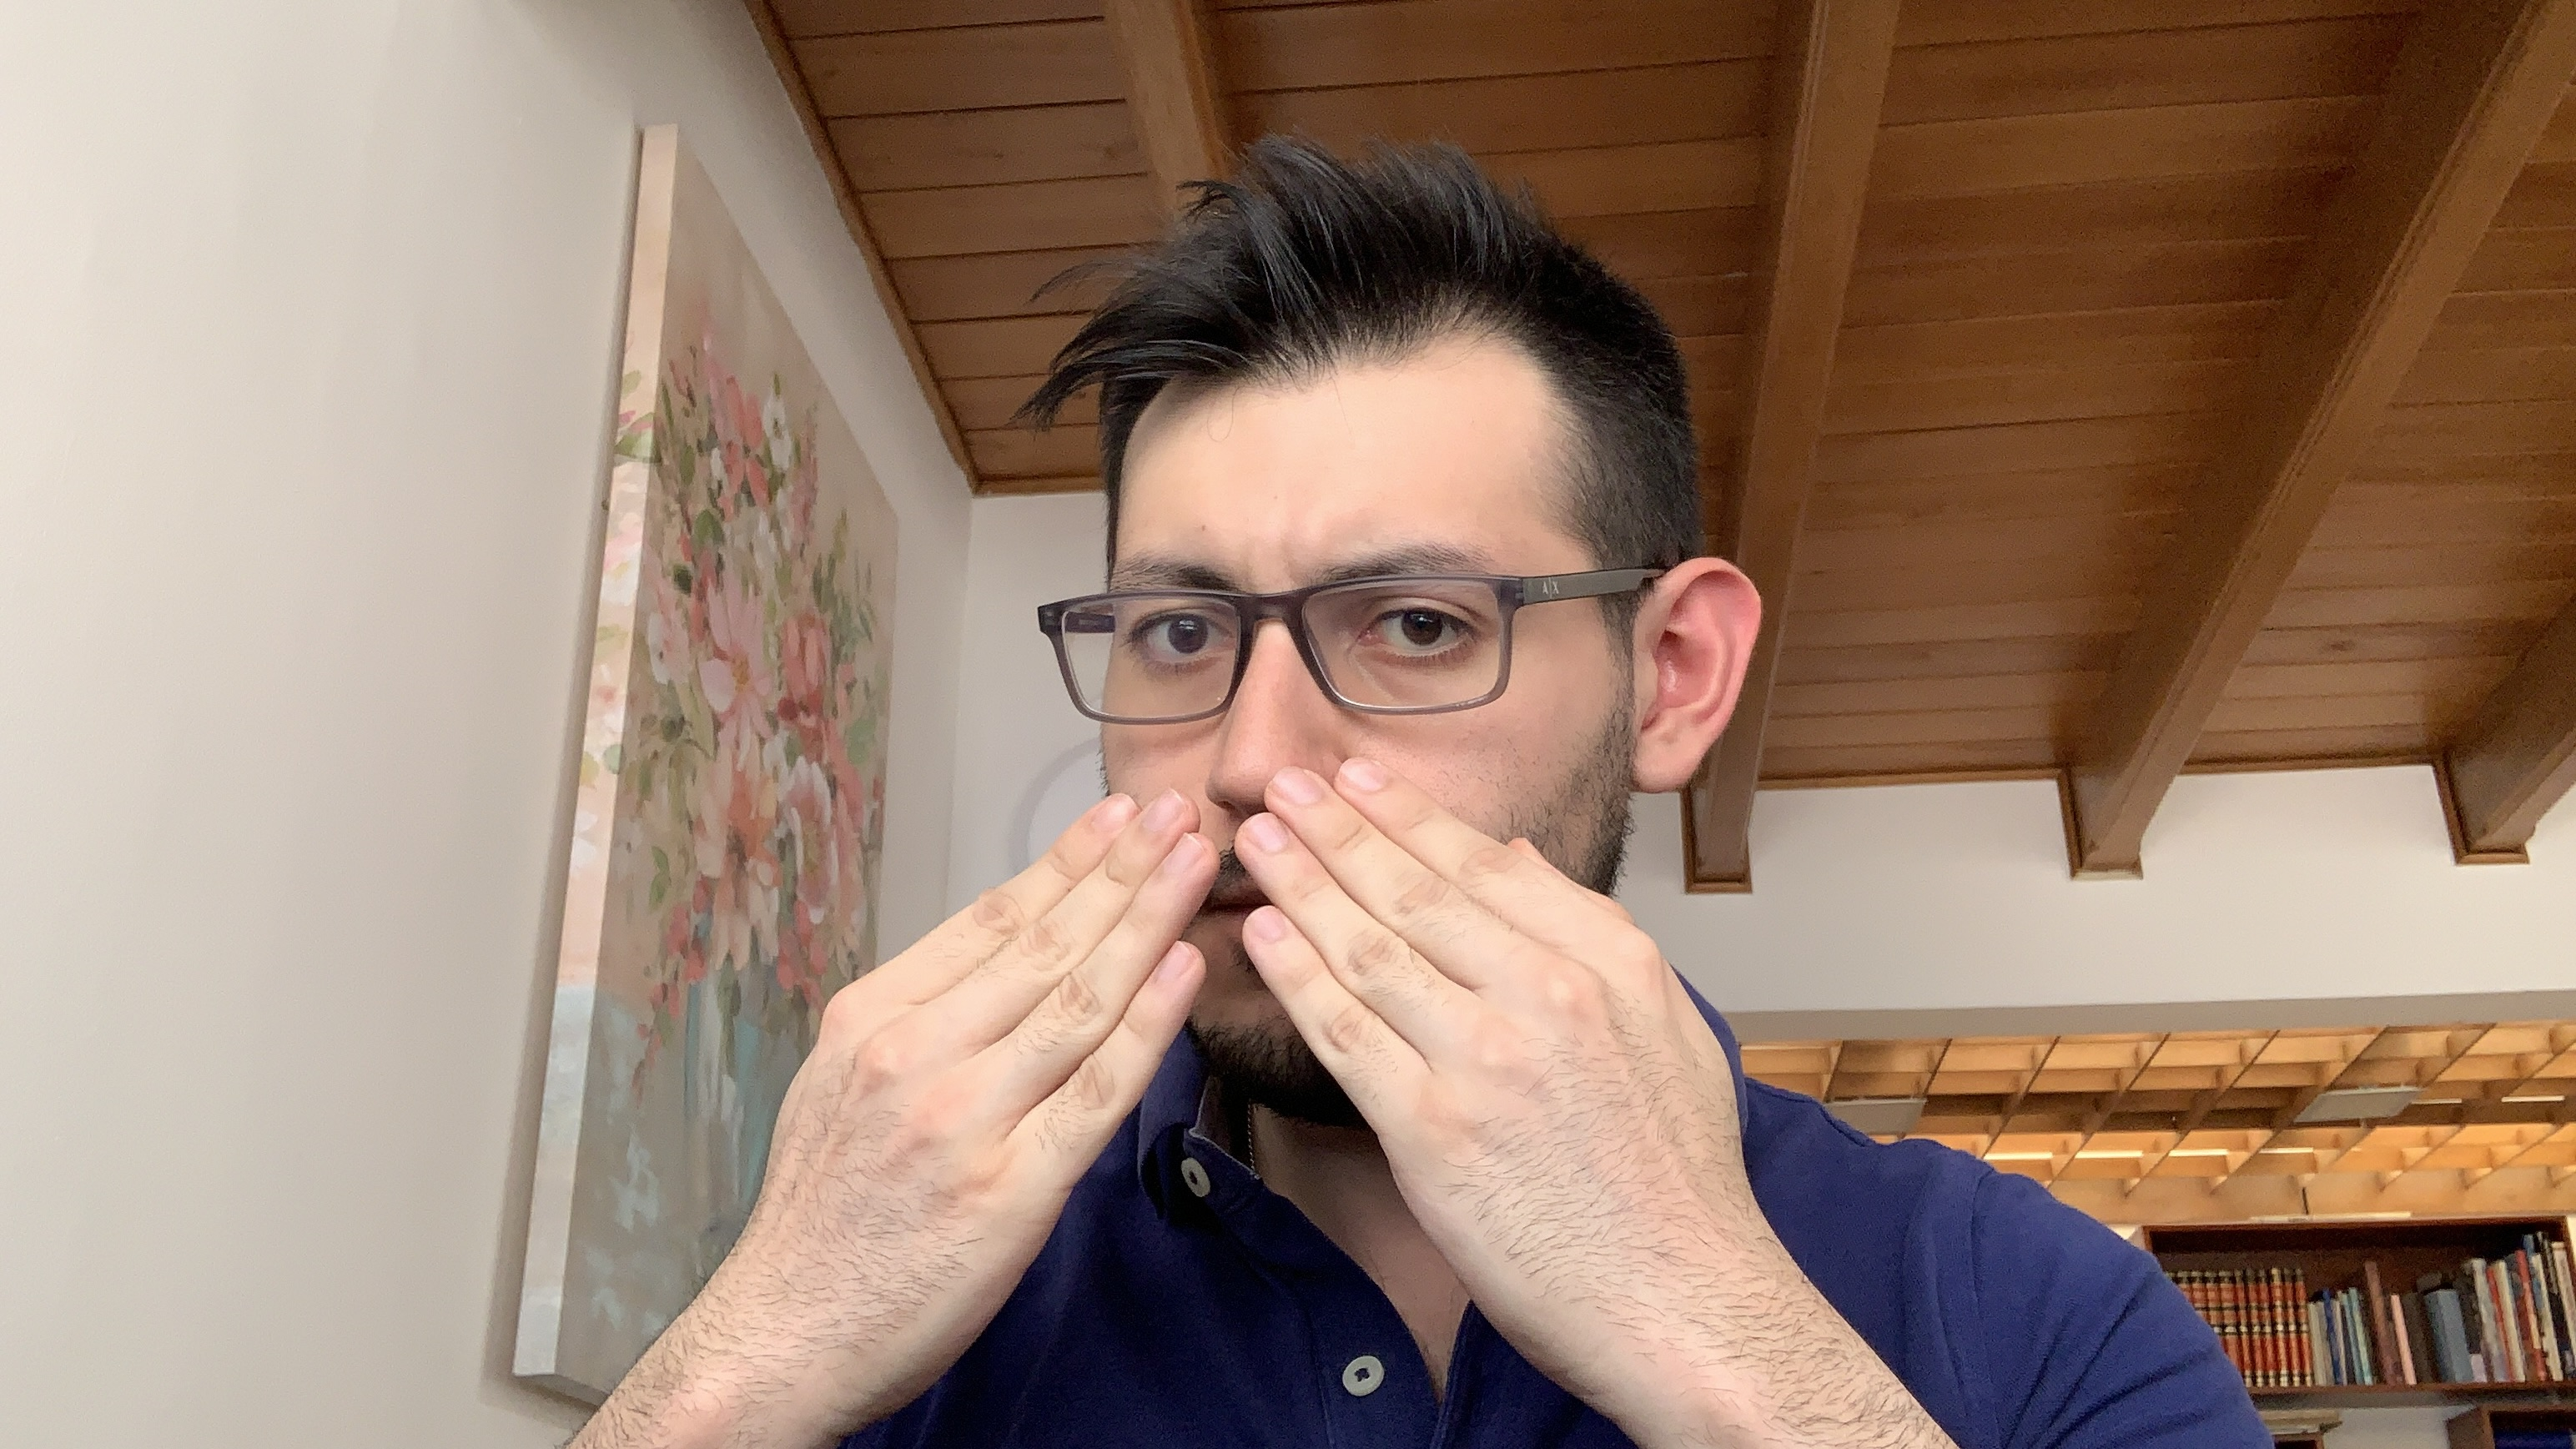Thank You: (727, 763, 1766, 1419)
